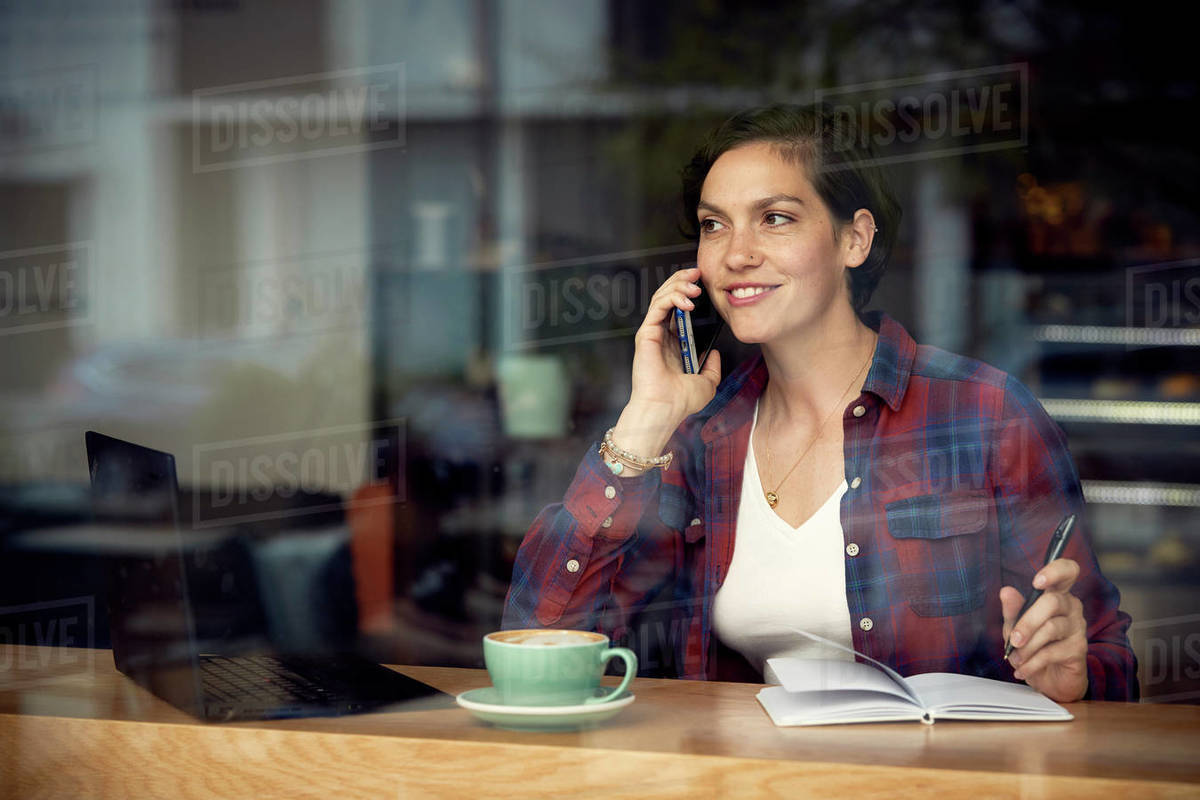phone: (637, 261, 719, 398)
talk: (619, 180, 838, 428)
